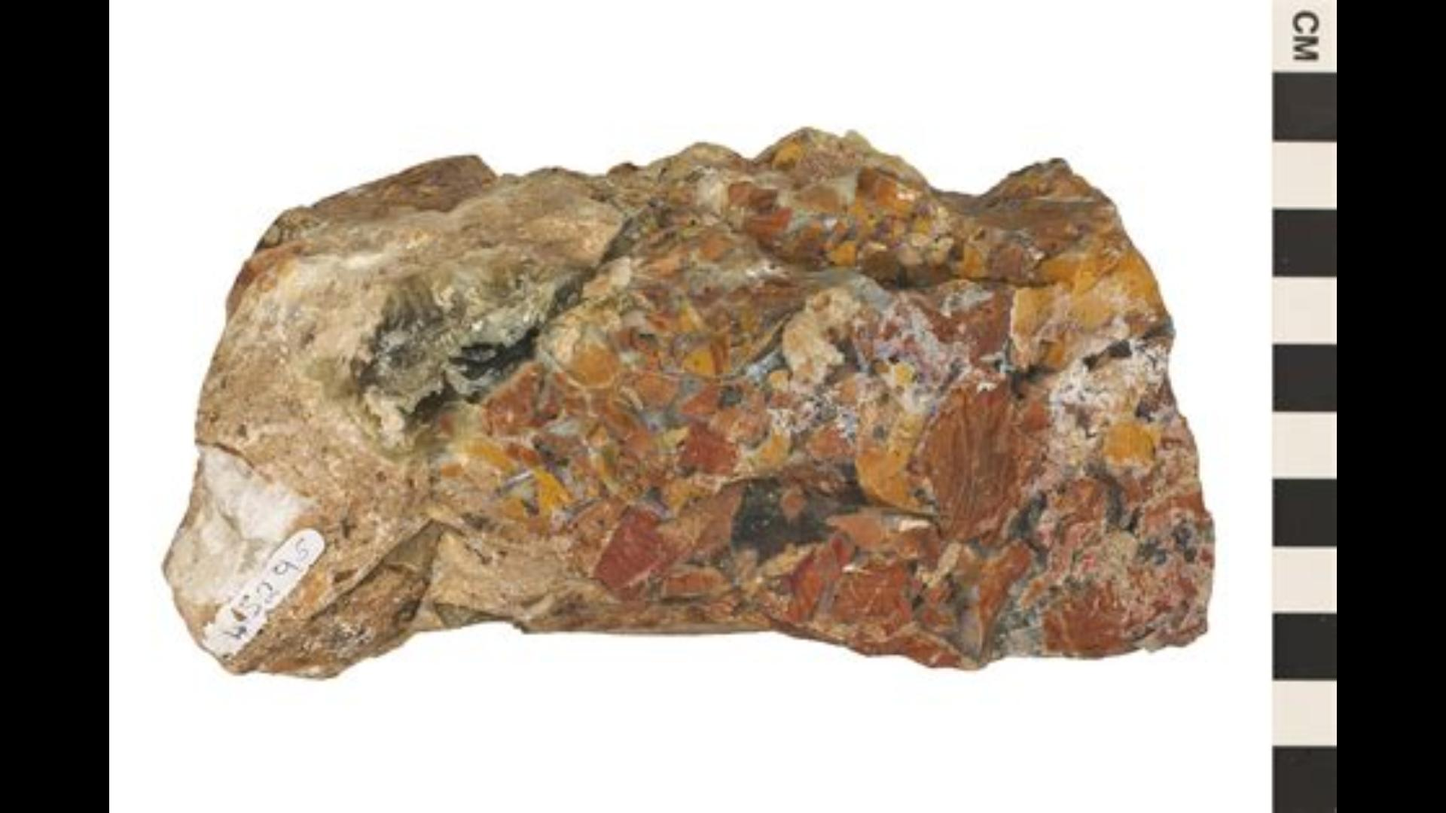rock: (169, 129, 1210, 676)
